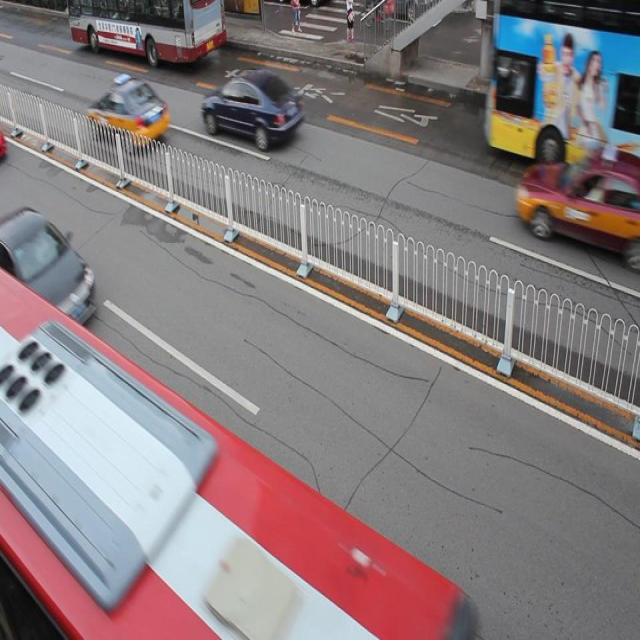car: (515, 151, 640, 253), (1, 204, 99, 327), (203, 70, 304, 148), (87, 77, 170, 151)
van: (1, 265, 460, 640), (484, 1, 640, 183), (68, 1, 225, 62)
